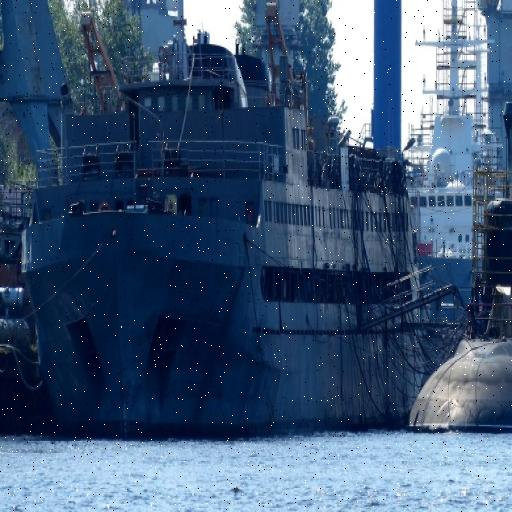submarine: (413, 185, 512, 438)
